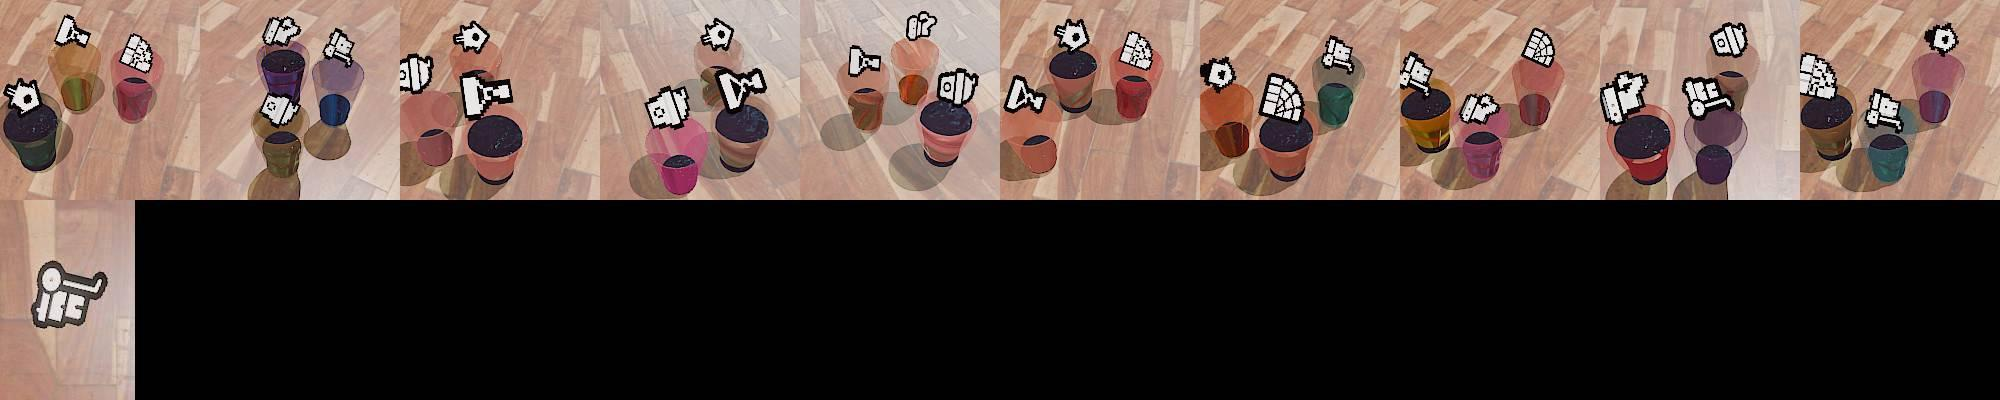icon: (31, 260, 110, 329), (1598, 70, 1652, 126), (459, 73, 514, 120), (713, 66, 768, 112), (1681, 74, 1731, 122), (1259, 71, 1305, 122), (645, 84, 693, 129), (1798, 52, 1839, 99), (936, 66, 981, 107), (1005, 74, 1045, 115), (4, 75, 43, 116), (1865, 88, 1903, 130), (1519, 25, 1556, 68), (398, 52, 434, 96), (1458, 90, 1501, 125), (1398, 51, 1434, 92), (1119, 29, 1154, 70), (1709, 23, 1749, 59), (259, 92, 298, 127), (1200, 56, 1237, 93), (1052, 18, 1091, 54), (1320, 33, 1355, 73), (119, 33, 153, 73), (321, 27, 356, 66), (261, 15, 302, 48), (54, 14, 92, 48), (453, 19, 490, 54), (700, 17, 735, 51), (1925, 22, 1959, 55), (847, 46, 881, 78), (906, 10, 936, 41)
